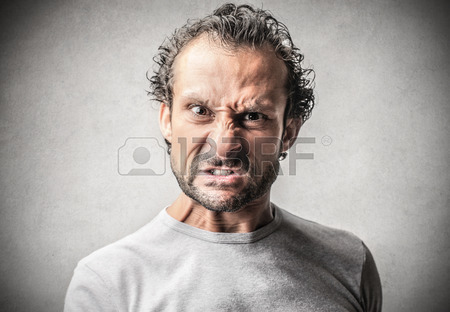angry: (167, 68, 289, 219)
